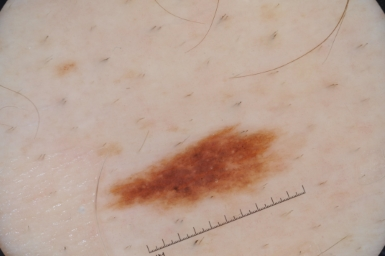melanoma: (105, 123, 297, 218)
